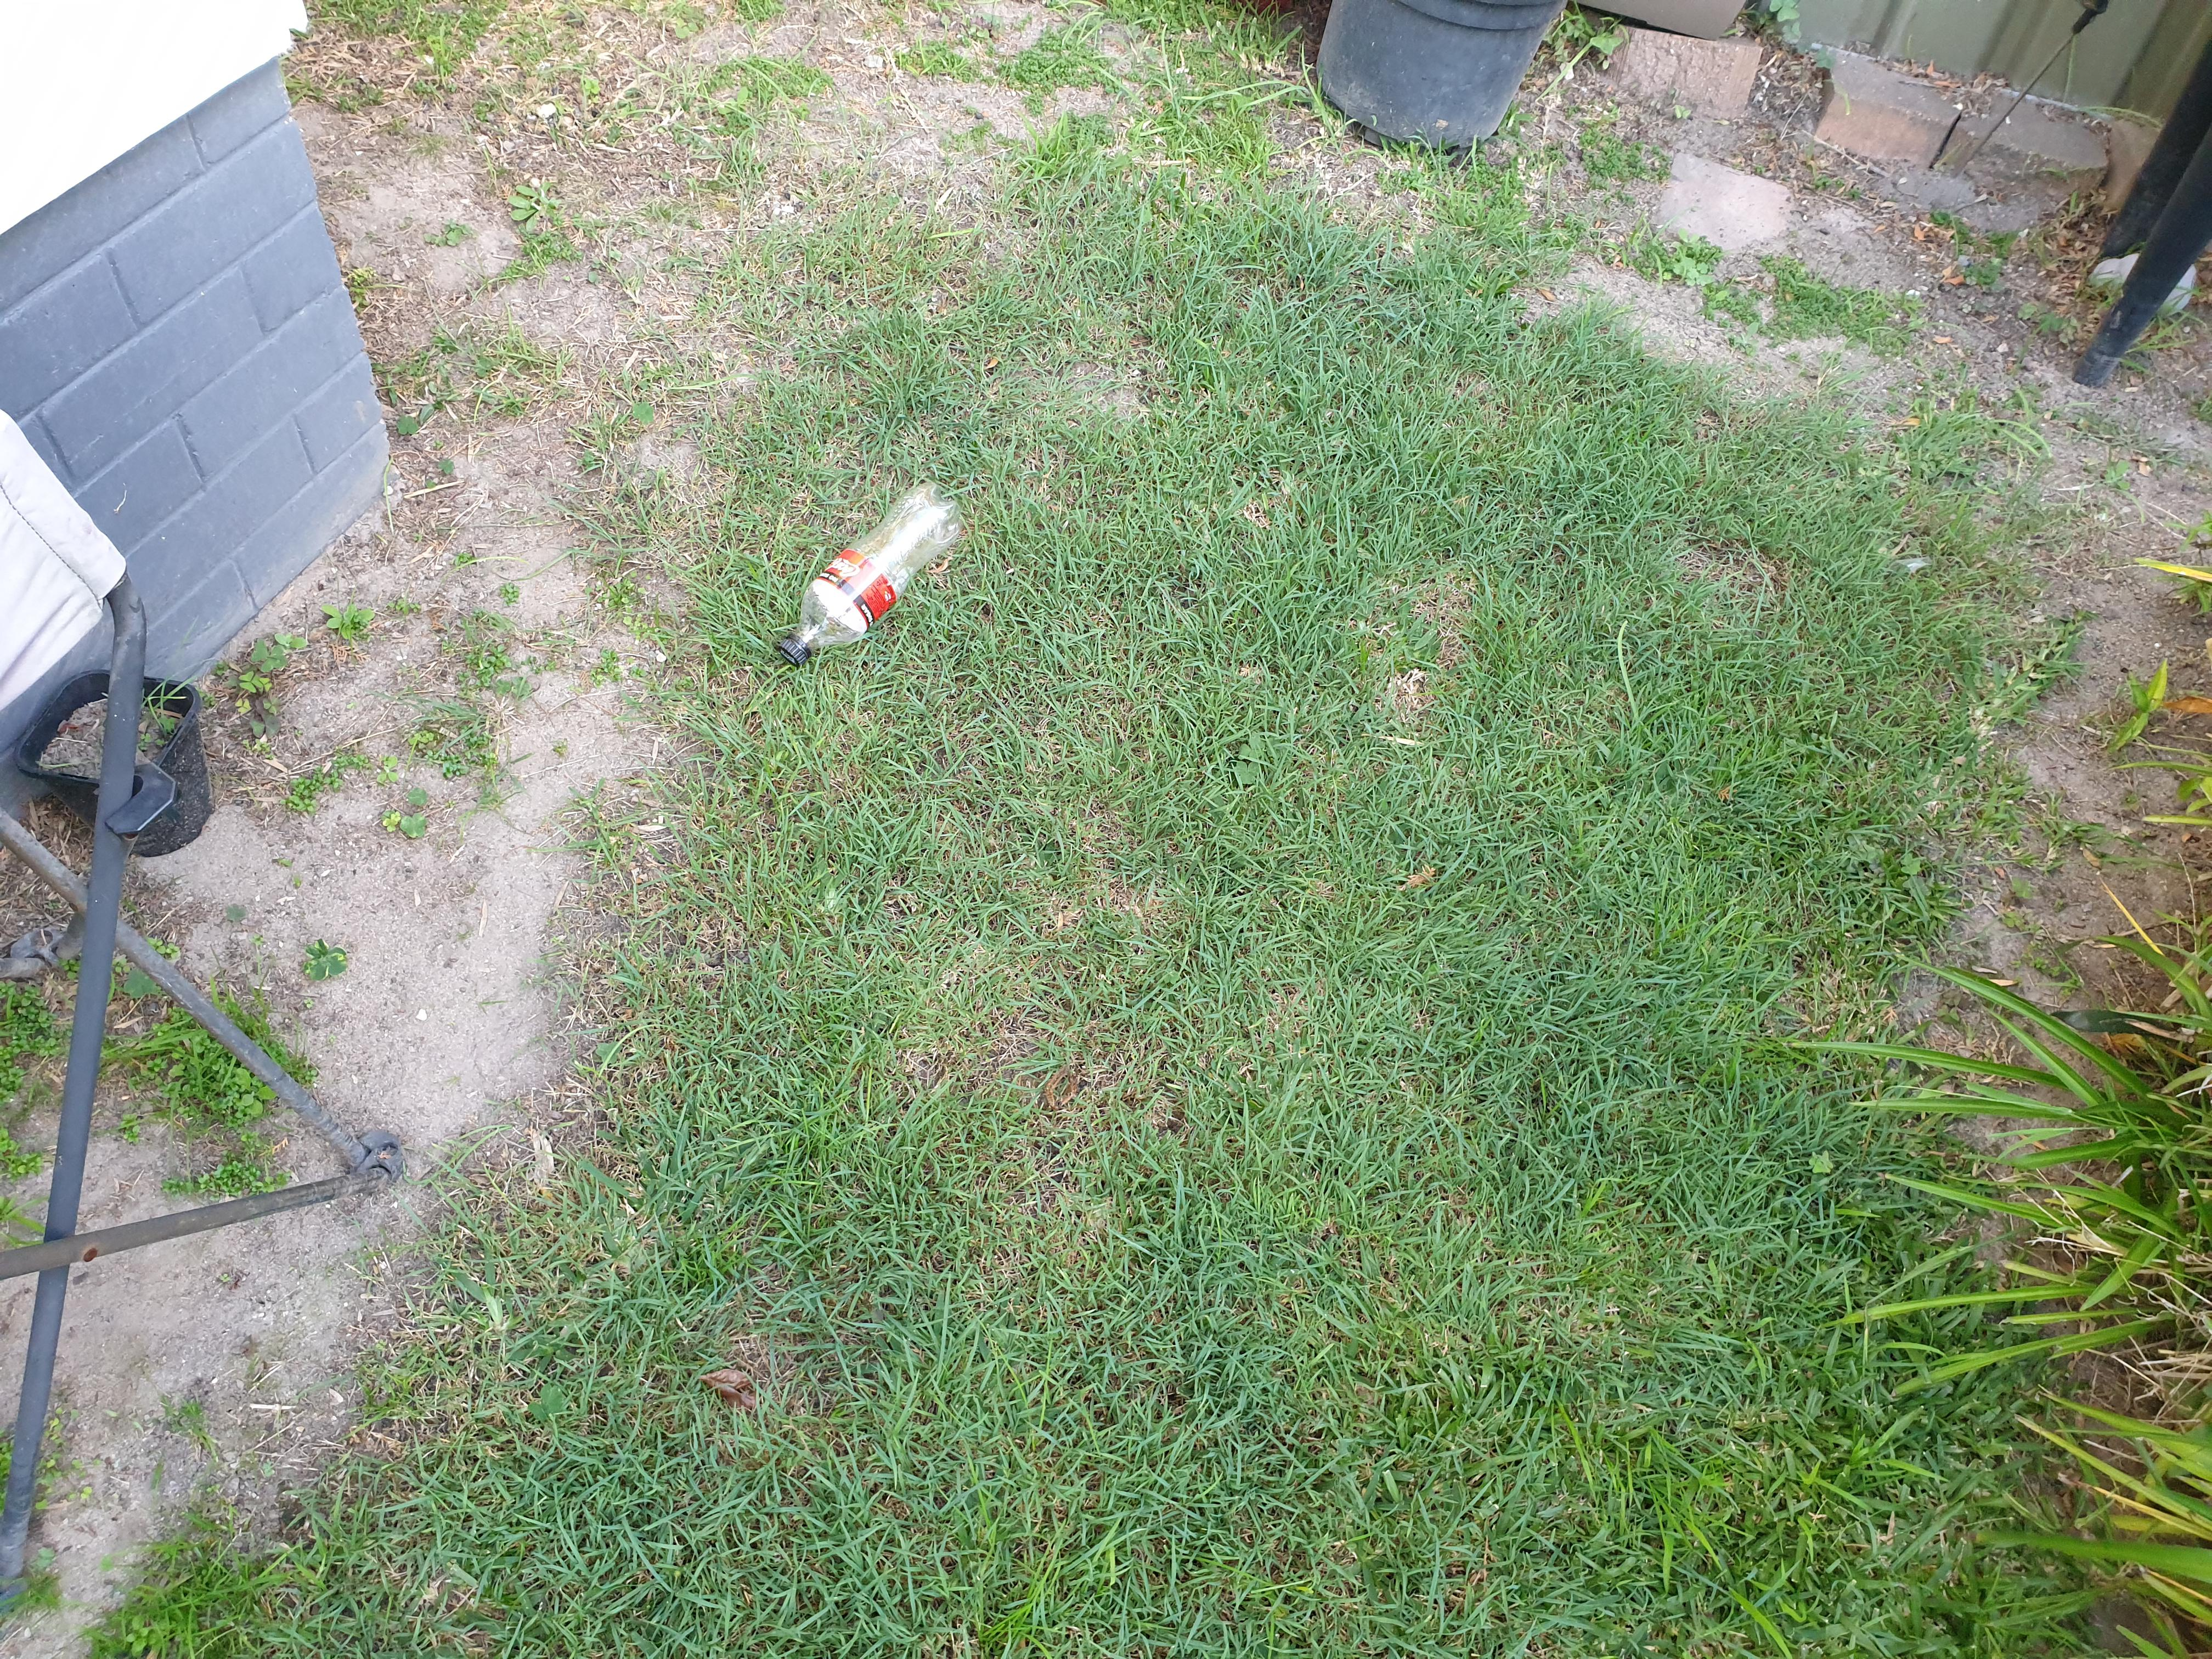Plastic Bottle: (780, 483, 961, 667)
